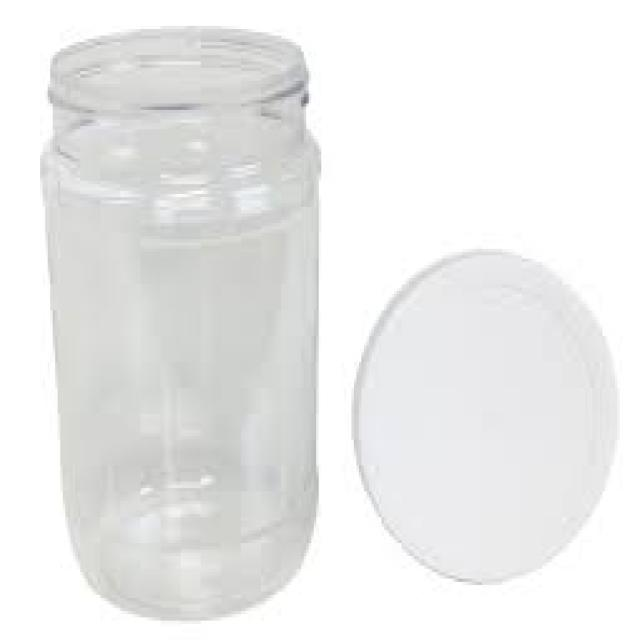glass: (38, 23, 319, 617)
plastic: (351, 249, 615, 575)
